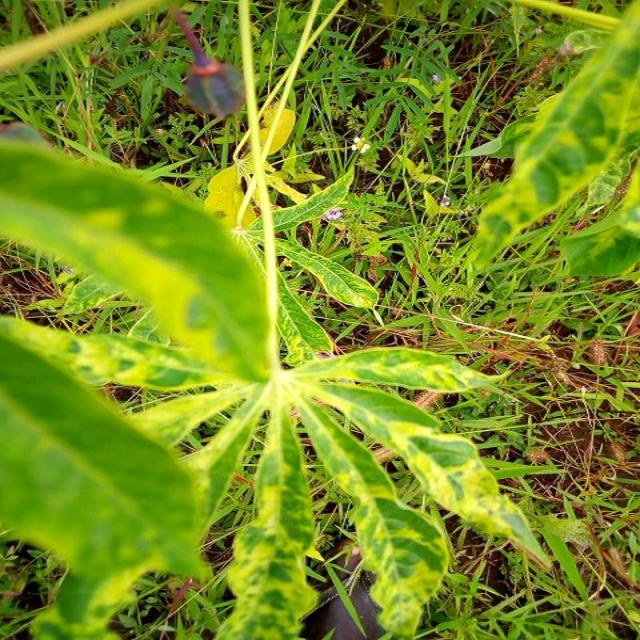cassava leaf: (1, 114, 549, 638), (0, 128, 274, 387), (0, 314, 210, 636), (467, 0, 638, 278)
